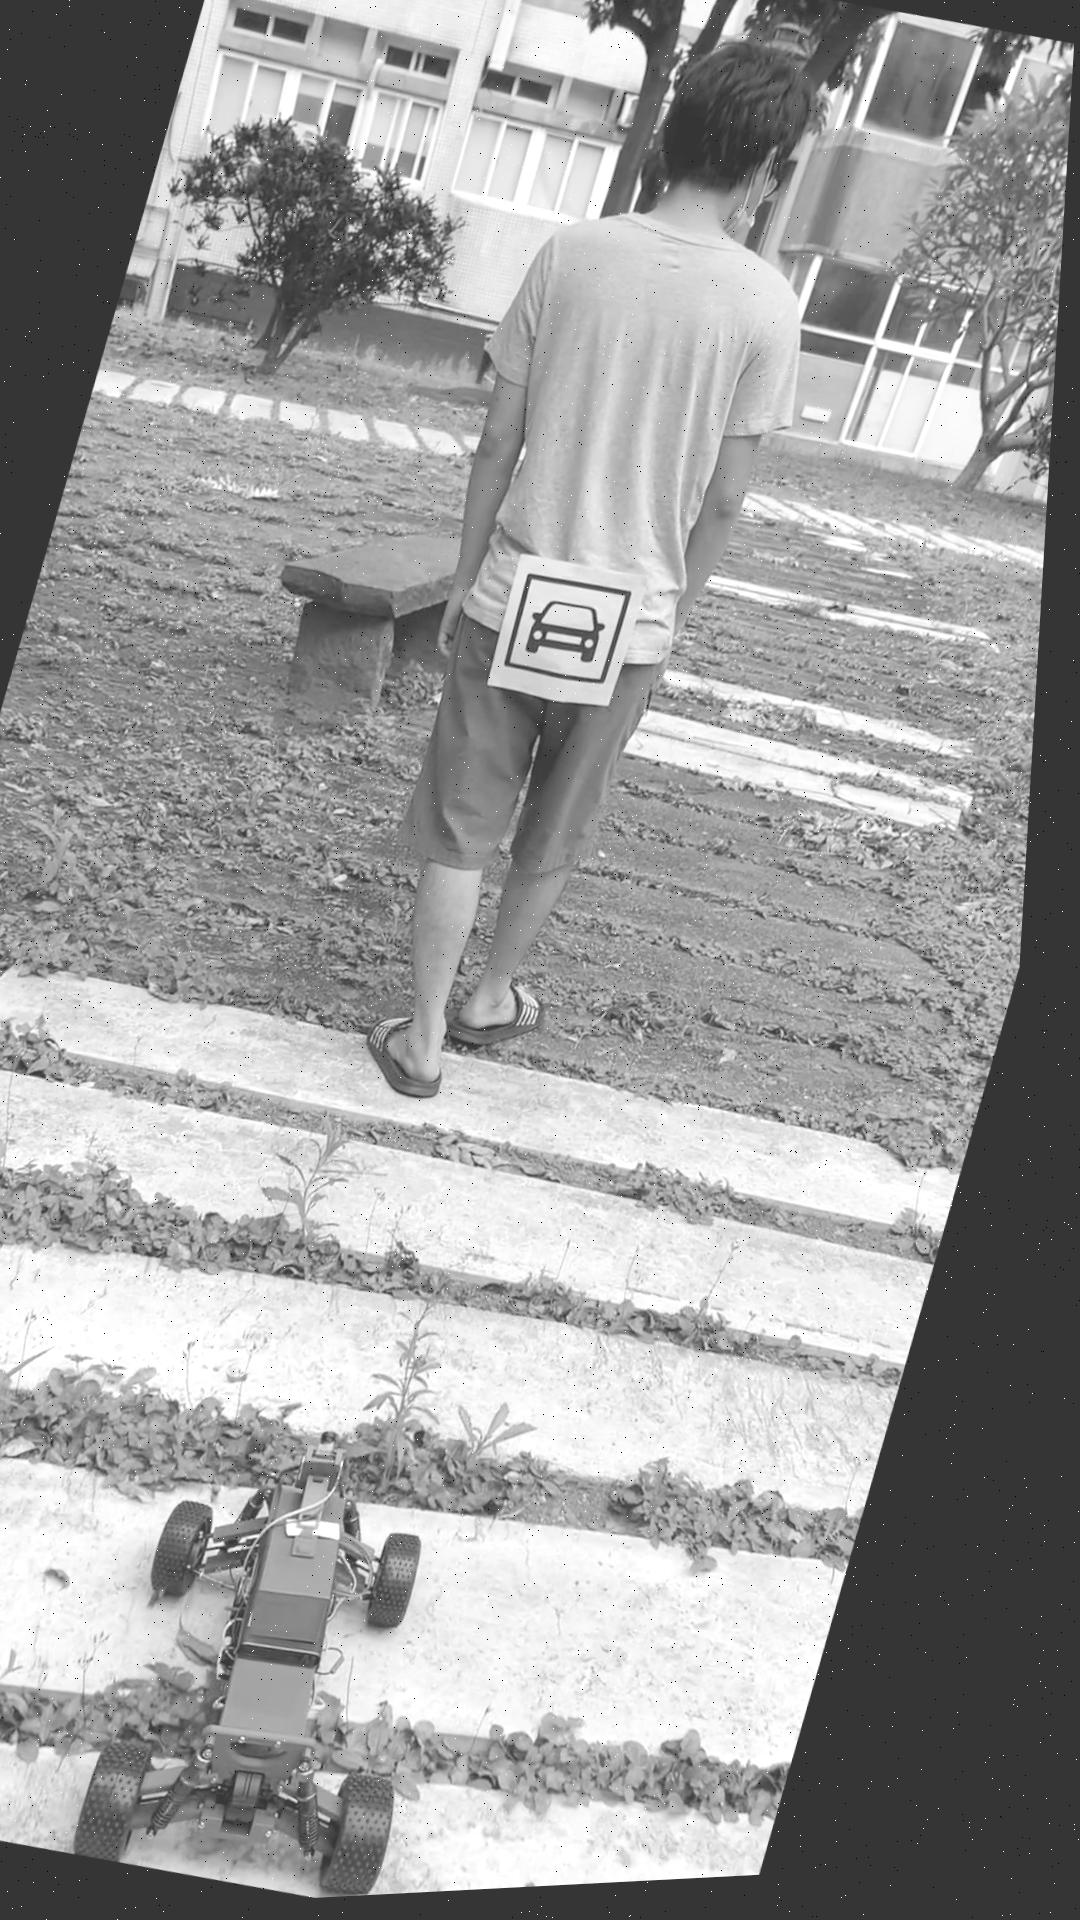car_img: (506, 574, 641, 699)
